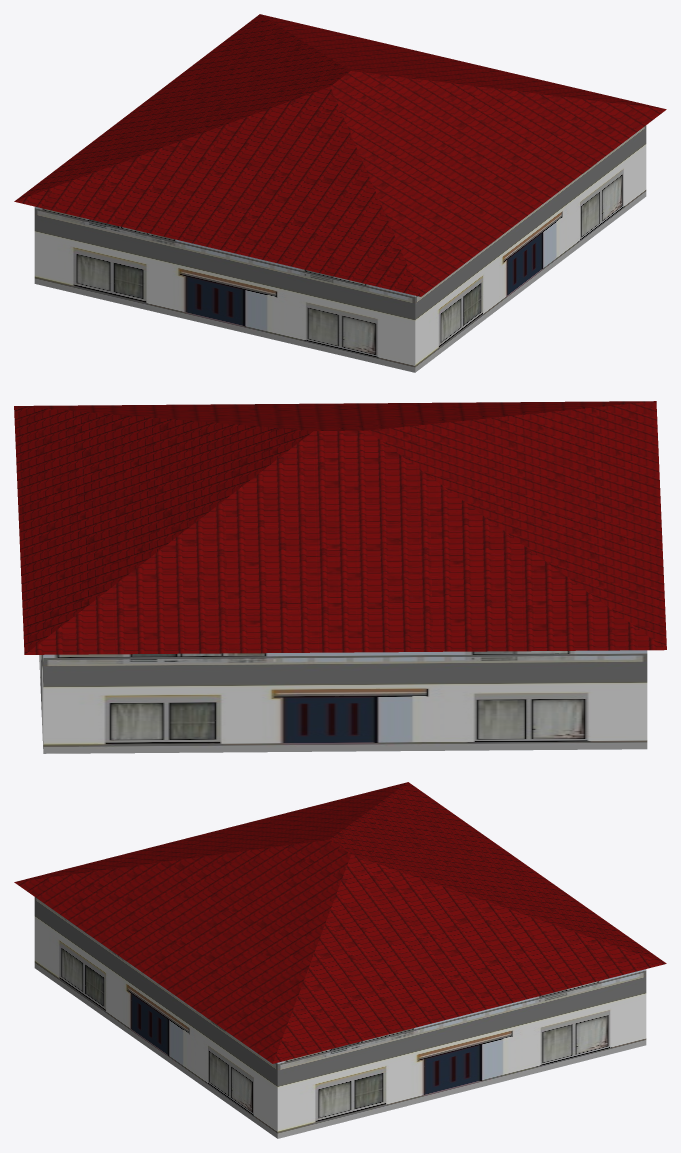
3 views of the same model, one above another, from view 1: azimuth 30°, elevation 25°; view 2: azimuth 150°, elevation 25°; view 3: azimuth 270°, elevation 25° (orthographic). The views are drawn at different scales.
Visible parts, largest first — view 1: CityEngineMaterial_17_m, CityEngineMaterial_7_m; view 2: CityEngineMaterial_17_m, CityEngineMaterial_7_m; view 3: CityEngineMaterial_17_m, CityEngineMaterial_7_m.
Boxes of the visible parts, bbox=[...] form: CityEngineMaterial_17_m: bbox=[14, 14, 666, 296]; CityEngineMaterial_7_m: bbox=[34, 125, 646, 372]; CityEngineMaterial_17_m: bbox=[14, 401, 666, 654]; CityEngineMaterial_7_m: bbox=[39, 650, 647, 753]; CityEngineMaterial_17_m: bbox=[14, 782, 666, 1063]; CityEngineMaterial_7_m: bbox=[34, 897, 646, 1138].
Bounding box in the file's own units: 41.77 × 11.02 × 40.88.
